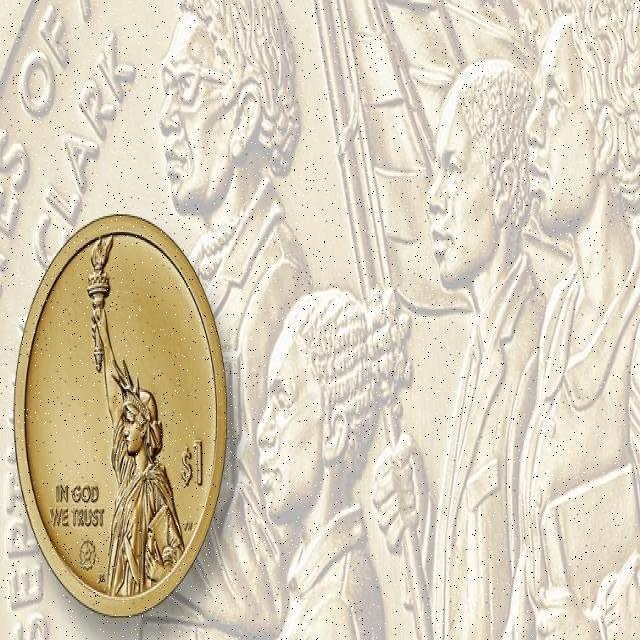Circle: (16, 210, 228, 616)
